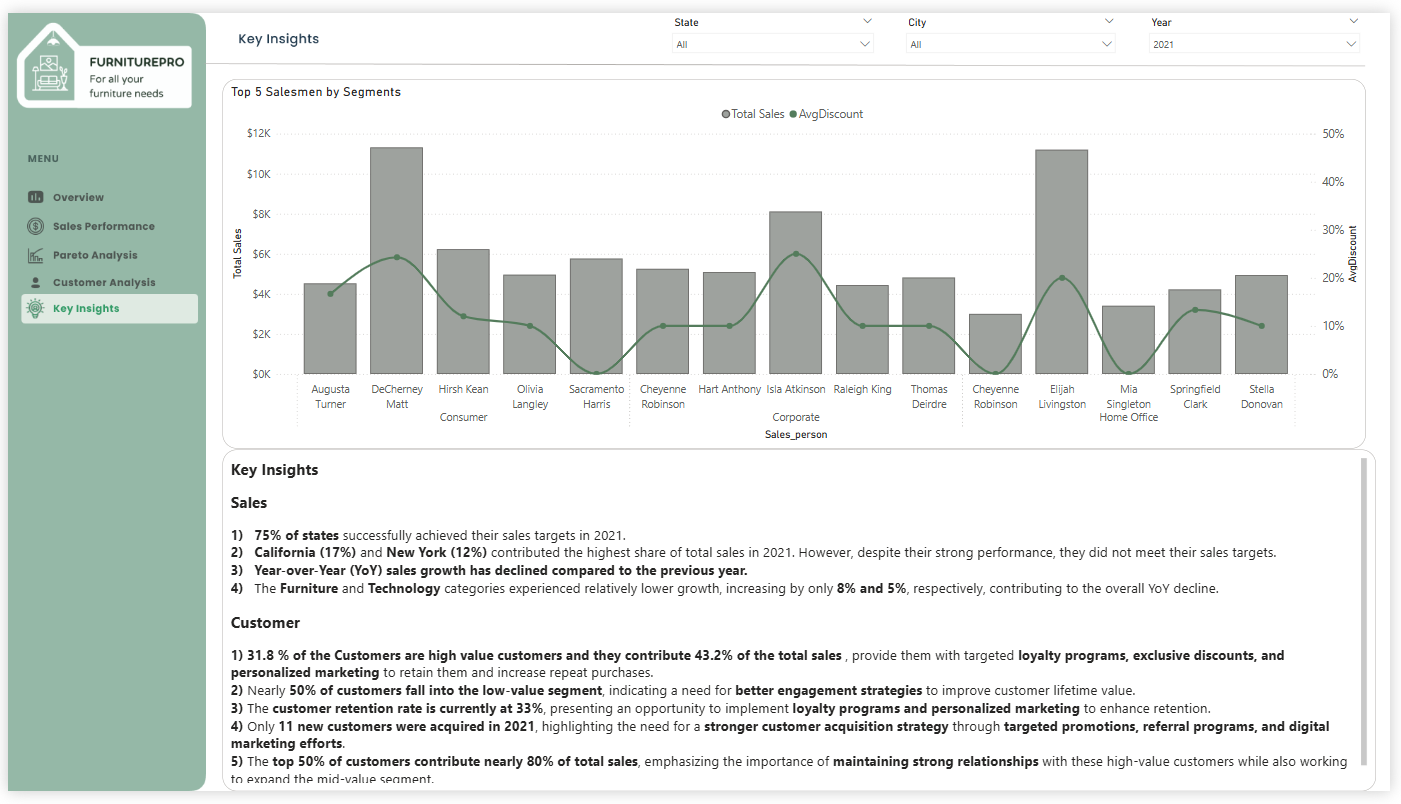

The dashboard page shown, as its layout file describes it:
{"tool":"powerbi","page":{"name":"Key Insights","canvas":[1920,1080],"ordinal":4},"visuals":[{"type":"actionButton","box":[12,236,260,38],"z":0,"group":"g1"},{"type":"lineStackedColumnComboChart","title":"Top 5 Salesmen by Segments","fields":{"Category":["Orders Fact.Segment","Sales Person Dim.Sales_person"],"Y":["Measures (2).Total Sales"],"Y2":["Measures (2).AvgDiscount"]},"box":[297.6,91,1588.3,513.6],"z":0},{"type":"slicer","fields":{"Values":["State Dim.State"]},"box":[912.7,0,300,61.8],"z":1000},{"type":"actionButton","box":[20,274,246,40],"z":1000,"group":"g1"},{"type":"slicer","fields":{"Values":["Date Dim.Year"]},"box":[1574.5,0,312.7,61.8],"z":2000},{"type":"actionButton","box":[20,313.3,246.7,40],"z":2000,"group":"g1"},{"type":"slicer","fields":{"Values":["Location Dim.City"]},"box":[1238.2,0,310.9,61.8],"z":3000},{"type":"actionButton","box":[20,353.3,246.7,40],"z":3000,"group":"g1"},{"type":"actionButton","box":[20,393.3,246.7,40],"z":4000,"group":"g1"},{"type":"group","id":"g1","title":"Group 2","box":[12,236,260,197.3],"z":4000},{"type":"textbox","box":[298.2,605.5,1601.8,474.5],"z":5000}]}

Visuals, with their boxes on the page's 1920x1080 design canvas (x1, y1, x2, y2). These are canvas units, not pixel positions in the 1401x804 screenshot, which may show the page scaled, cropped or inside an application window:
actionButton: x1=12 y1=236 x2=272 y2=274
"Top 5 Salesmen by Segments" lineStackedColumnComboChart: x1=298 y1=91 x2=1886 y2=605
slicer - State Dim.State: x1=913 y1=0 x2=1213 y2=62
actionButton: x1=20 y1=274 x2=266 y2=314
slicer - Date Dim.Year: x1=1574 y1=0 x2=1887 y2=62
actionButton: x1=20 y1=313 x2=267 y2=353
slicer - Location Dim.City: x1=1238 y1=0 x2=1549 y2=62
actionButton: x1=20 y1=353 x2=267 y2=393
actionButton: x1=20 y1=393 x2=267 y2=433
"Group 2" group: x1=12 y1=236 x2=272 y2=433
textbox: x1=298 y1=606 x2=1900 y2=1080
